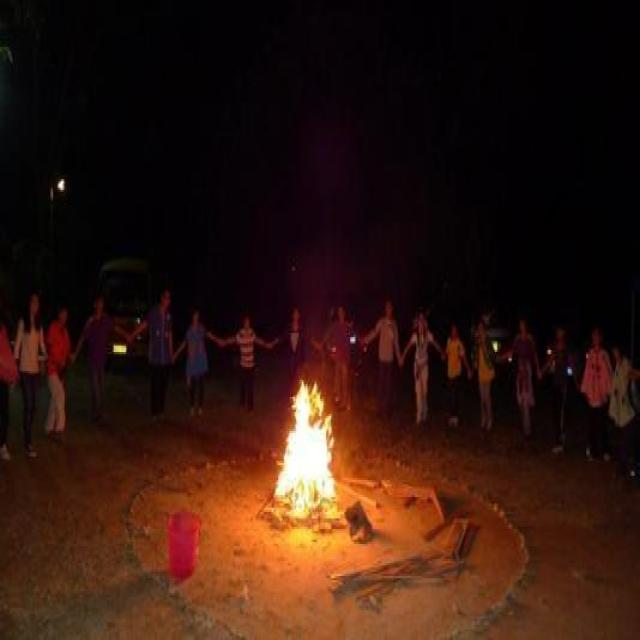fire: (224, 325, 374, 539)
